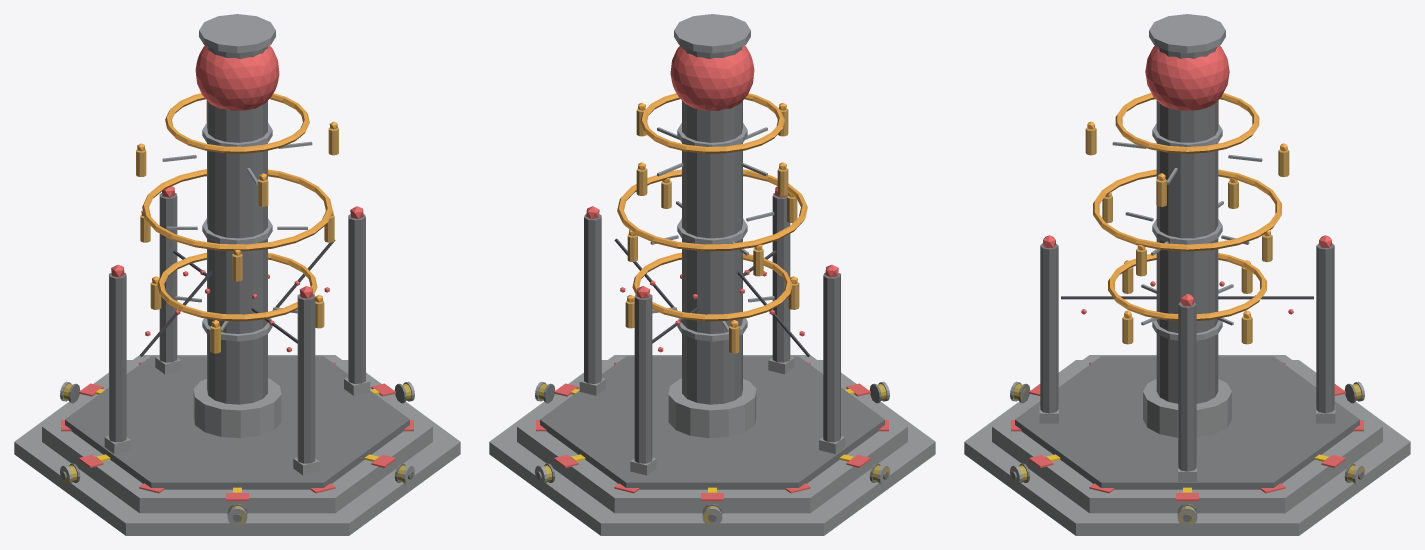
The model's file is overload_matrix_s3_100.glb.
3 renders of one model, left to right at view 1: azimuth 30°, elevation 25°; view 2: azimuth 150°, elevation 25°; view 3: azimuth 270°, elevation 25°, orthographic.
Visible parts, largest first — view 1: OM_Ball; view 2: OM_Ball; view 3: OM_Ball.
Part boxes in pixels (bbox=[...]): OM_Ball: bbox=[14, 14, 460, 535]; OM_Ball: bbox=[489, 14, 935, 535]; OM_Ball: bbox=[964, 14, 1410, 535].
Bounding box in the file's own units: 5.25 × 6.1 × 5.82.
